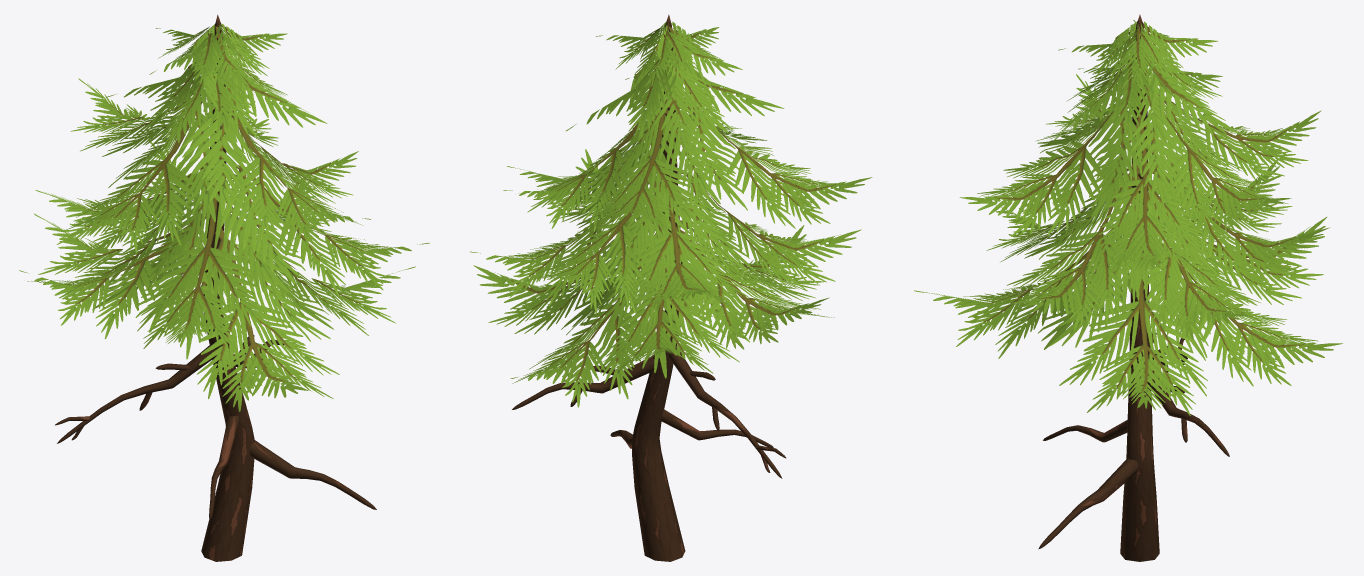
File: pine-3.glb
The picture shows the model from 3 angles, left to right: view 1: azimuth 30°, elevation 25°; view 2: azimuth 150°, elevation 25°; view 3: azimuth 270°, elevation 25°; orthographic projection.
Visible parts, largest first — view 1: PineTree_3; view 2: PineTree_3; view 3: PineTree_3.
Boxes of the visible parts, bbox=[...] form: PineTree_3: bbox=[19, 14, 429, 561]; PineTree_3: bbox=[470, 14, 872, 561]; PineTree_3: bbox=[914, 14, 1342, 561].
Size of the model in its own units: 1.76 by 2.35 by 1.75.
2 materials, 2 textured.
